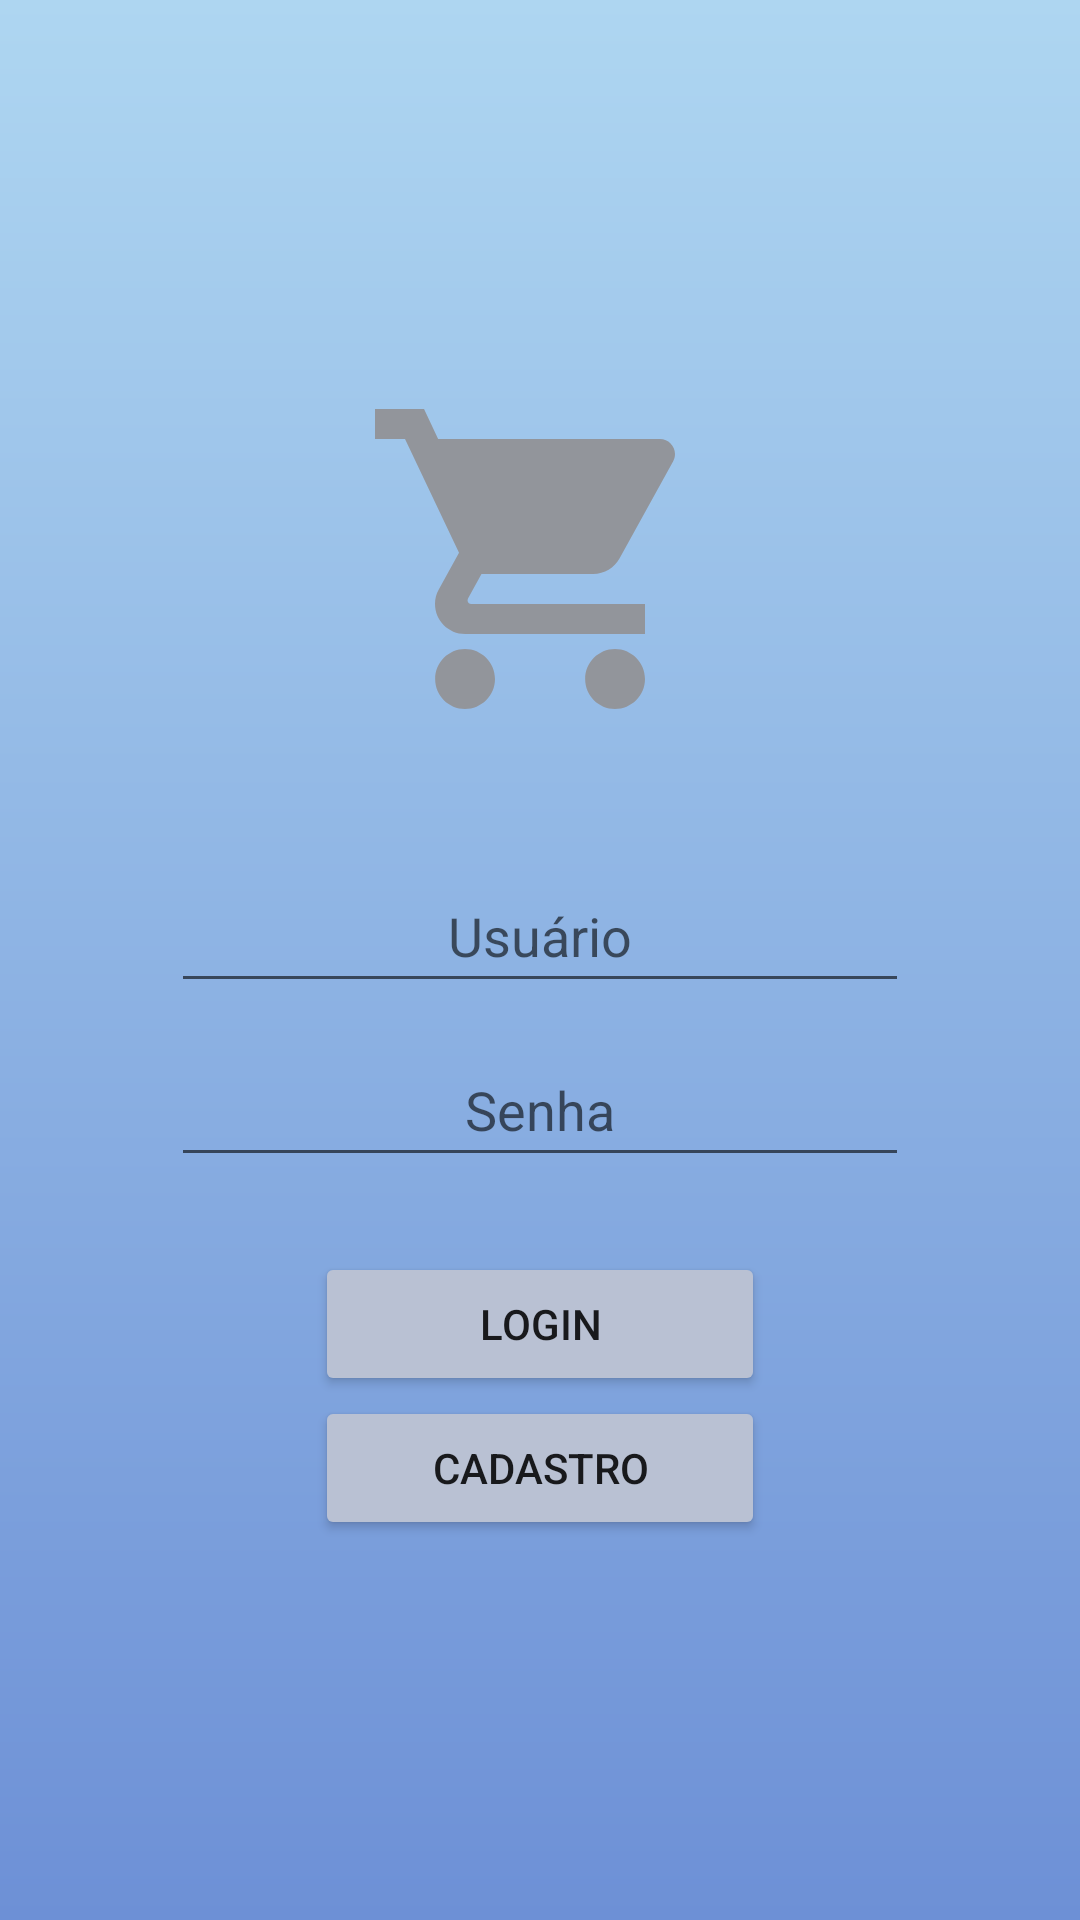

Icons on this 1080*1920 Android screen, each with the point to tap as point (x, y):
shopping cart: point (525, 559)
